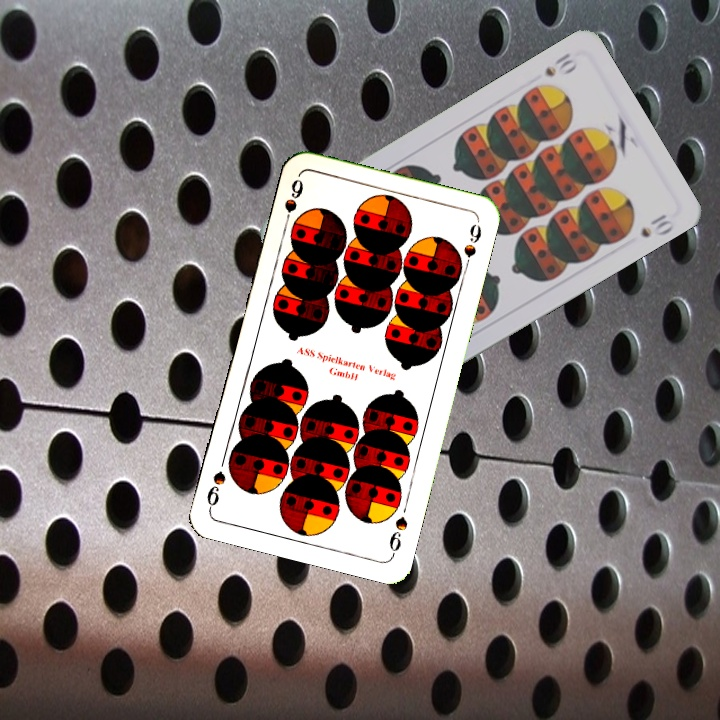S10: (540, 49, 581, 80)
S9: (279, 175, 306, 232), (385, 512, 410, 559)
